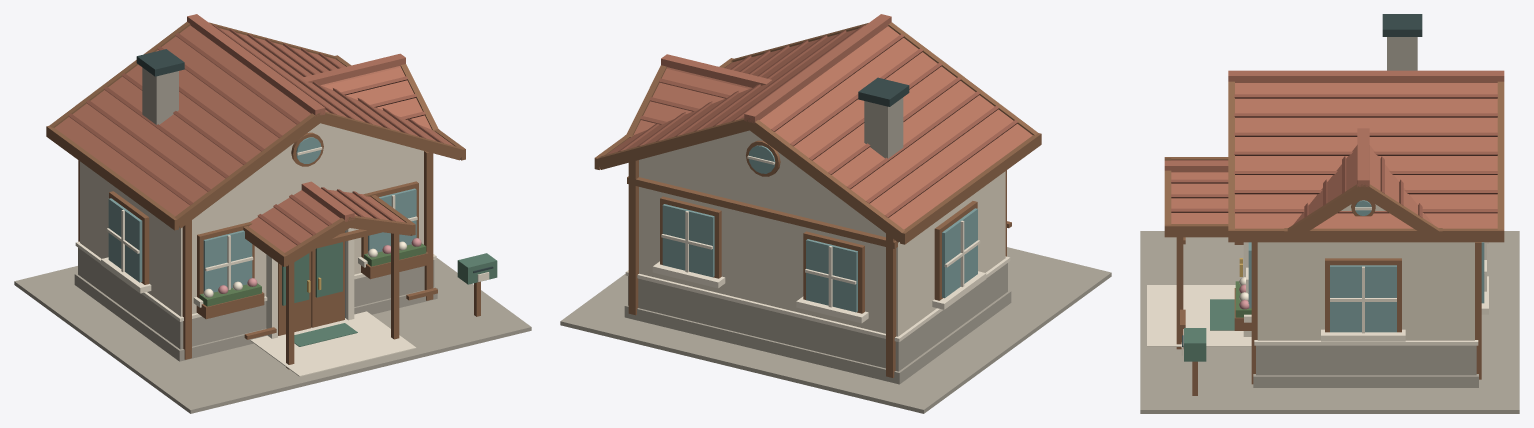
Rendered from village-home.glb.
The picture shows the model from 3 angles, left to right: view 1: azimuth 30°, elevation 25°; view 2: azimuth 150°, elevation 25°; view 3: azimuth 270°, elevation 25°; orthographic projection. The views are drawn at different scales.
Visible parts, largest first — view 1: clay, stone, wood, ivory, trim, clayShade, glass, sage, door-inlay-1, door-leaf-1, leaf, door-leaf--1 (+2 smaller); view 2: stone, clay, ivory, wood, glass, clayShade, trim, dark; view 3: clay, stone, ivory, wood, clayShade, trim, glass, sage, dark.
Boxes of the visible parts, x1,y1,x2,y2 form: clay: (55, 14, 453, 252); stone: (14, 67, 531, 413); wood: (46, 22, 480, 369); ivory: (80, 123, 423, 316); trim: (75, 147, 489, 376); clayShade: (68, 24, 443, 245); glass: (108, 137, 416, 292); sage: (294, 253, 497, 346); door-inlay-1: (315, 242, 342, 297); door-leaf-1: (311, 231, 344, 327); leaf: (199, 243, 426, 306); door-leaf--1: (278, 252, 311, 335); stone: (560, 97, 1111, 413); clay: (606, 14, 1032, 229); ivory: (639, 130, 1005, 336); wood: (594, 22, 1041, 377); glass: (662, 145, 977, 312); clayShade: (618, 25, 1017, 217); trim: (625, 155, 1010, 341); dark: (858, 77, 909, 106); clay: (1164, 70, 1504, 228); stone: (1140, 37, 1519, 413); ivory: (1257, 204, 1474, 340); wood: (1164, 81, 1504, 395); clayShade: (1171, 94, 1497, 217); trim: (1147, 207, 1488, 355); glass: (1248, 200, 1484, 332); sage: (1184, 299, 1234, 361); dark: (1182, 14, 1422, 347).
Bounding box in the file's own units: 7.6 × 5.18 × 6.8.
